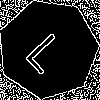L: (23, 24, 76, 76)
